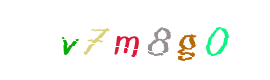0: (173, 0, 253, 80)
7: (87, 0, 167, 80)
8: (101, 0, 181, 80)
G: (146, 0, 226, 80)
M: (93, 0, 173, 80)
V: (28, 0, 108, 80)
